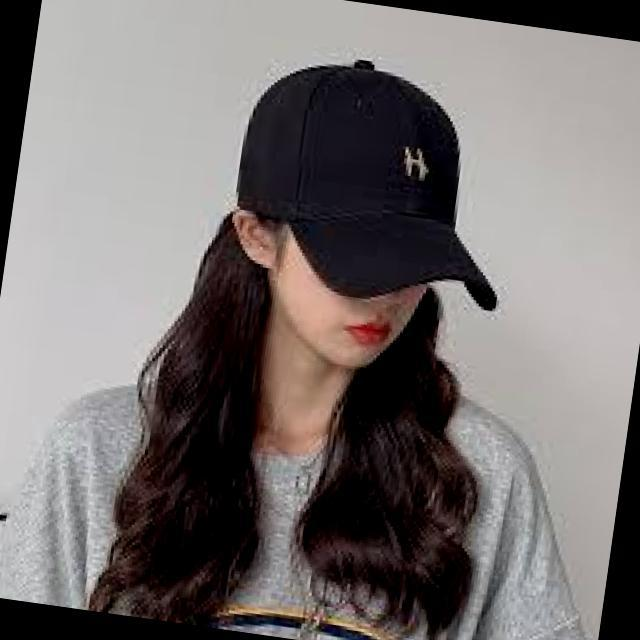cap: (199, 24, 569, 347)
